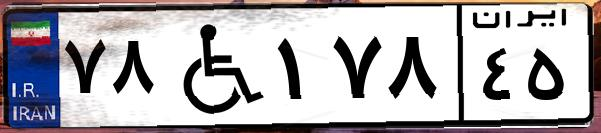1: (270, 28, 330, 110)
4: (475, 38, 525, 113)
5: (525, 38, 570, 115)
7: (330, 28, 385, 110), (57, 26, 110, 100)
8: (385, 28, 445, 110), (110, 28, 158, 98)
ژ (معلولین و جانبازان): (158, 12, 270, 120)
